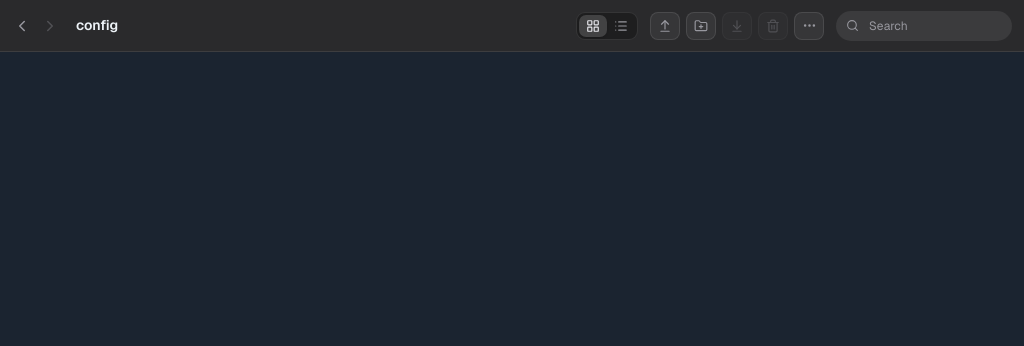
Test: FileToolbar › offers Select All when nothing is selected and closes on Escape
Click the button named "More actions" at [809, 26], box top-left (794, 12), bottom-right (824, 40)
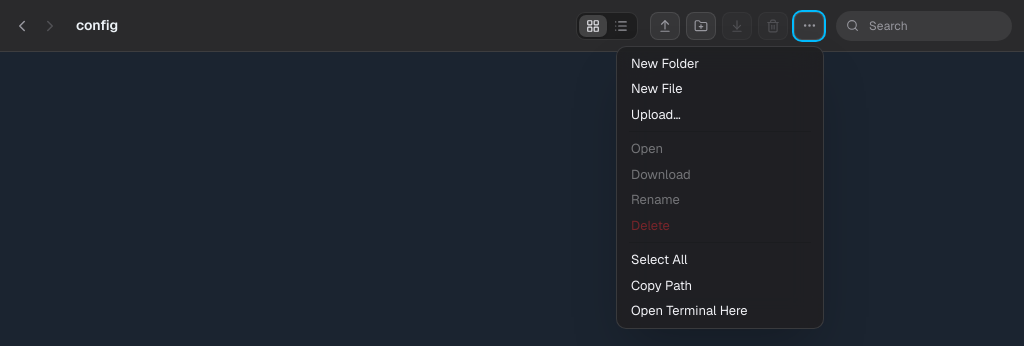
Check: the menu item "Rename" is disabled, box top-left (621, 187), bottom-right (819, 212)
Click the menu item "Select All" at [720, 260], box top-left (621, 247), bottom-right (819, 272)
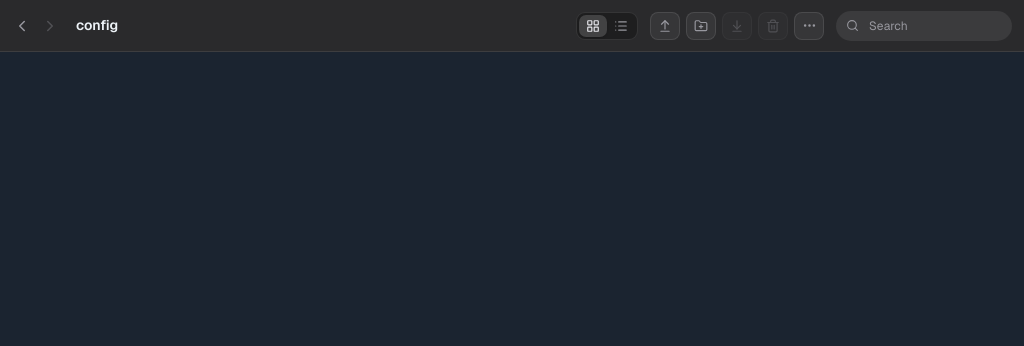
Click the button named "More actions" at [809, 26], box top-left (794, 12), bottom-right (824, 40)
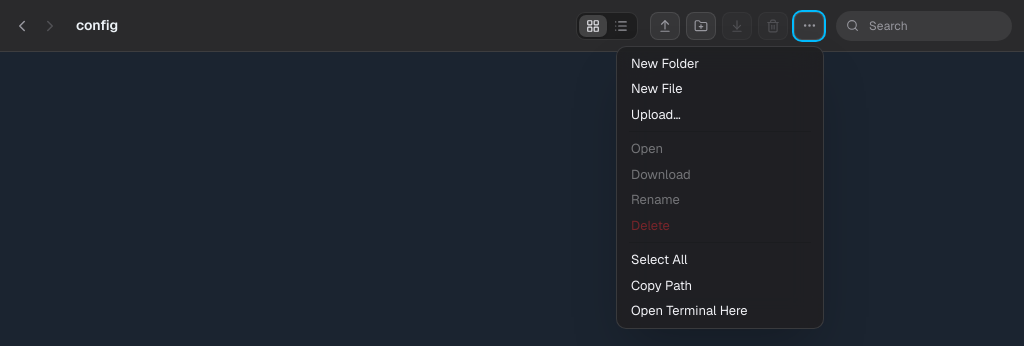
Press Escape
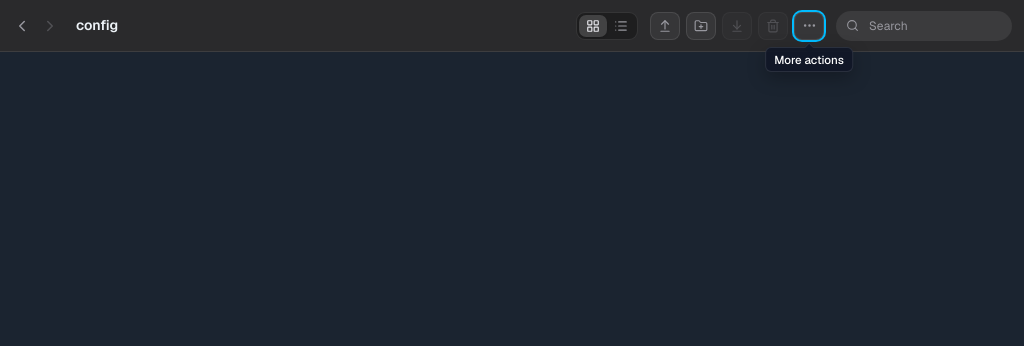
Check: the menu is gone
